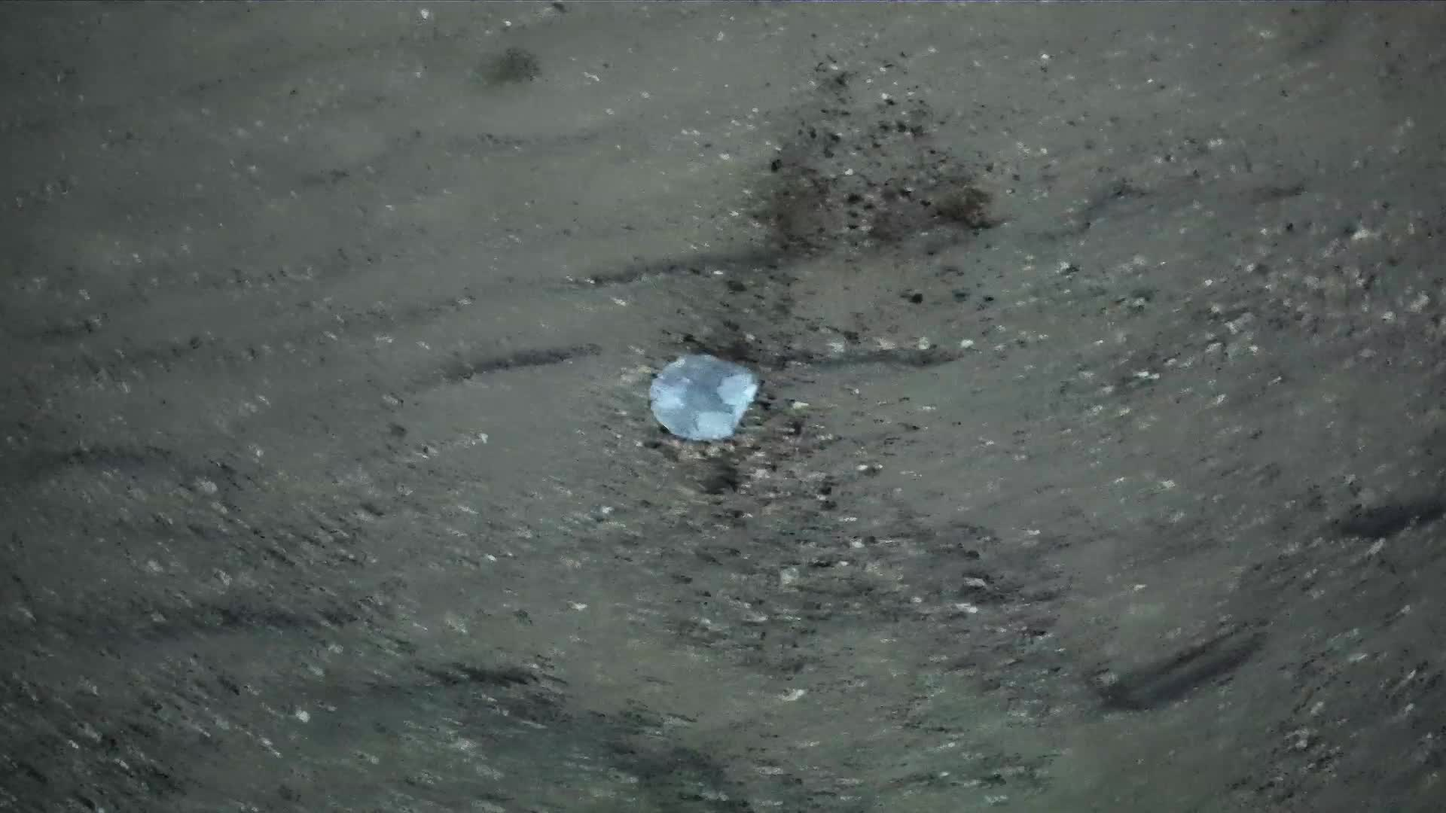Target: (637, 351, 763, 447)
